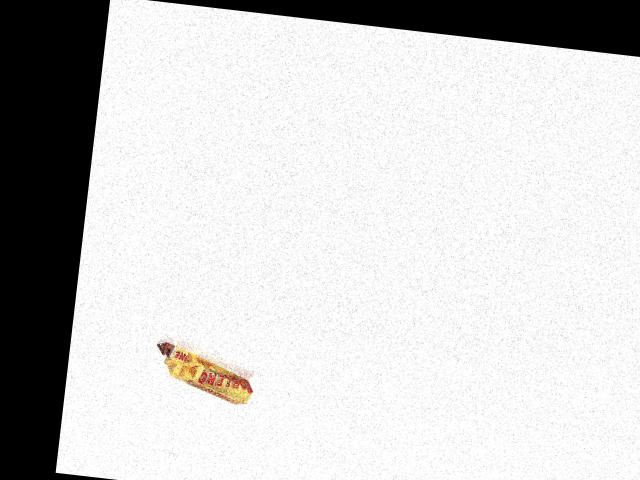chocolate: (150, 336, 257, 407)
